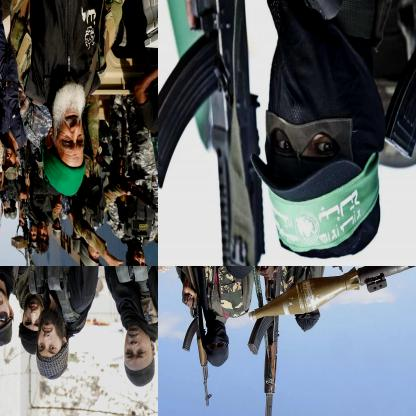rifle: (158, 0, 267, 265), (249, 266, 415, 326), (247, 266, 289, 415), (178, 266, 215, 409), (97, 148, 157, 219)
